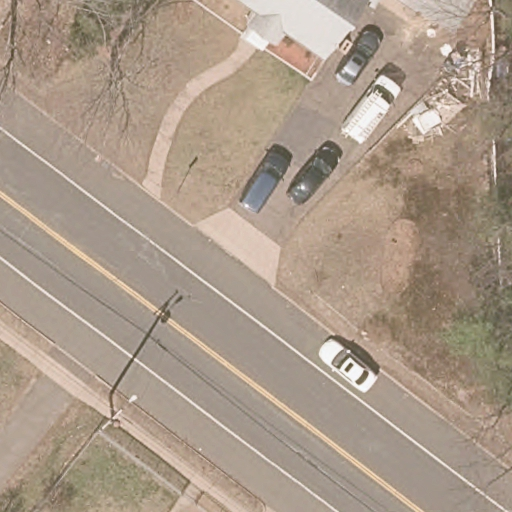DT: (97, 390, 138, 434)
